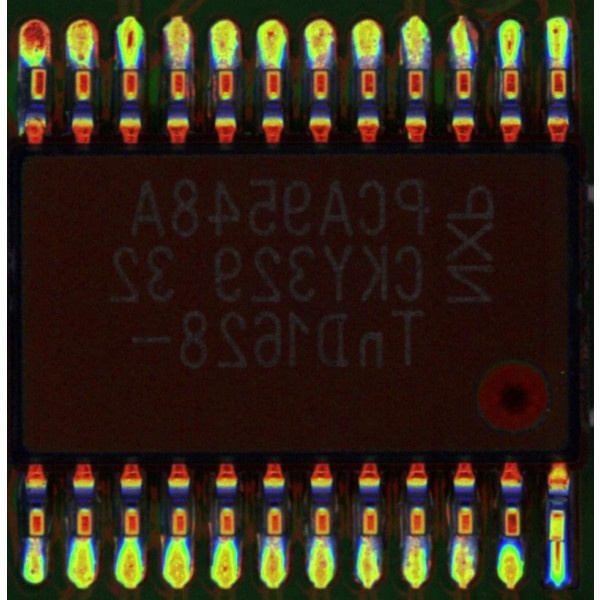Bad_podu: (552, 47, 565, 84), (313, 53, 327, 84), (220, 47, 231, 84), (173, 51, 184, 84), (554, 526, 564, 561)
